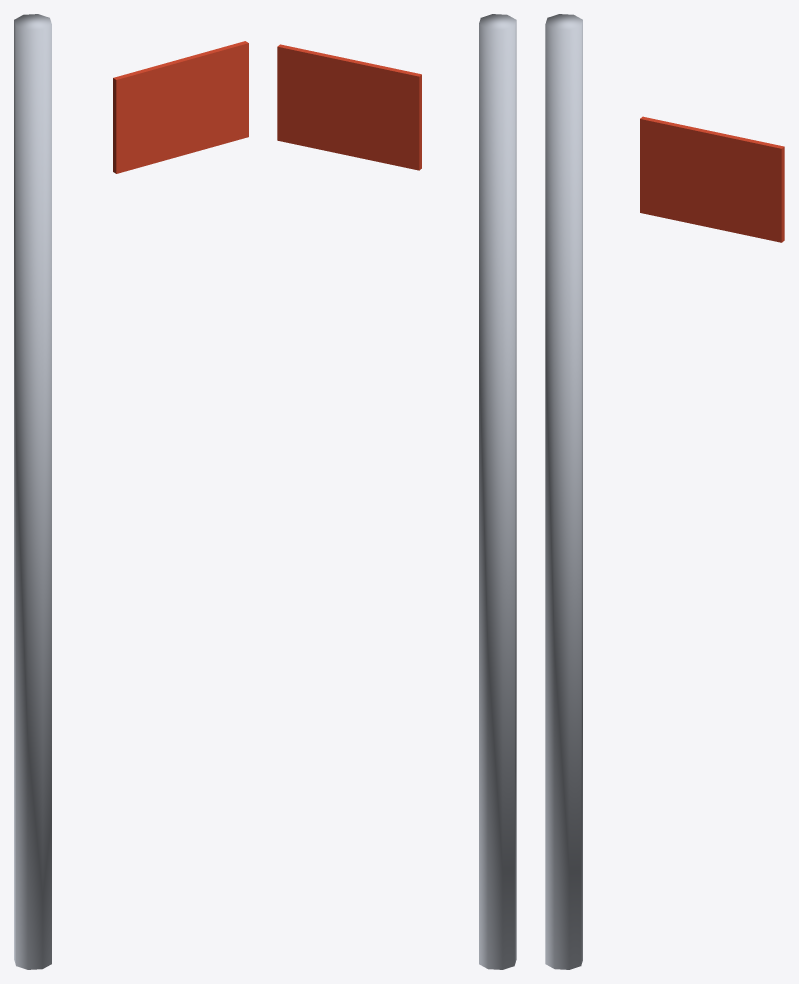
File: prop_flag.obj
The picture shows the model from 3 angles, left to right: view 1: azimuth 30°, elevation 25°; view 2: azimuth 150°, elevation 25°; view 3: azimuth 330°, elevation 25°; orthographic projection.
Parts seen in each view (by area): view 1: Flag; view 2: Flag; view 3: Flag.
Boxes of the visible parts, box(x1,y1,x2,y2) form: Flag: box(14, 14, 248, 969); Flag: box(277, 14, 516, 969); Flag: box(545, 14, 784, 969).
Bounding box in the file's own units: 0.4421 × 1.7 × 0.064.
